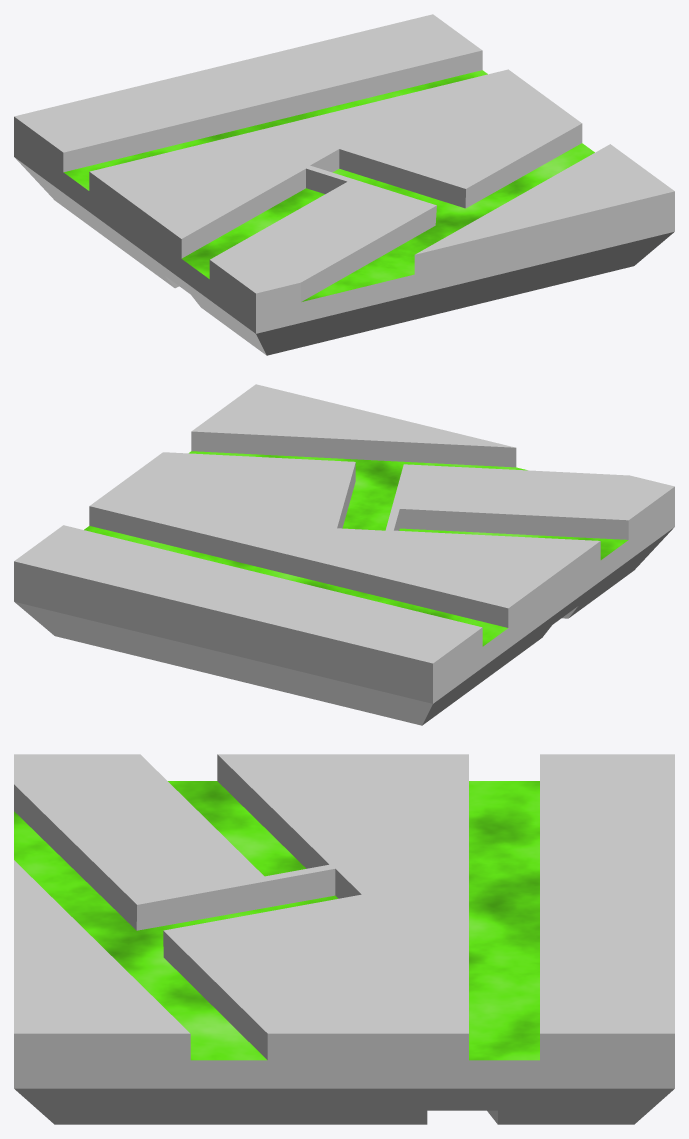
File: Platform1.fbx
3 views of the same model, one above another, from view 1: azimuth 30°, elevation 25°; view 2: azimuth 150°, elevation 25°; view 3: azimuth 270°, elevation 25° (orthographic). The views are drawn at different scales.
Visible parts, largest first — view 1: Cube; view 2: Cube; view 3: Cube.
Boxes of the visible parts, bbox=[...] form: Cube: bbox=[14, 14, 674, 355]; Cube: bbox=[14, 384, 674, 725]; Cube: bbox=[14, 754, 674, 1124].
Bounding box in the file's own units: 717 × 130 × 717.
